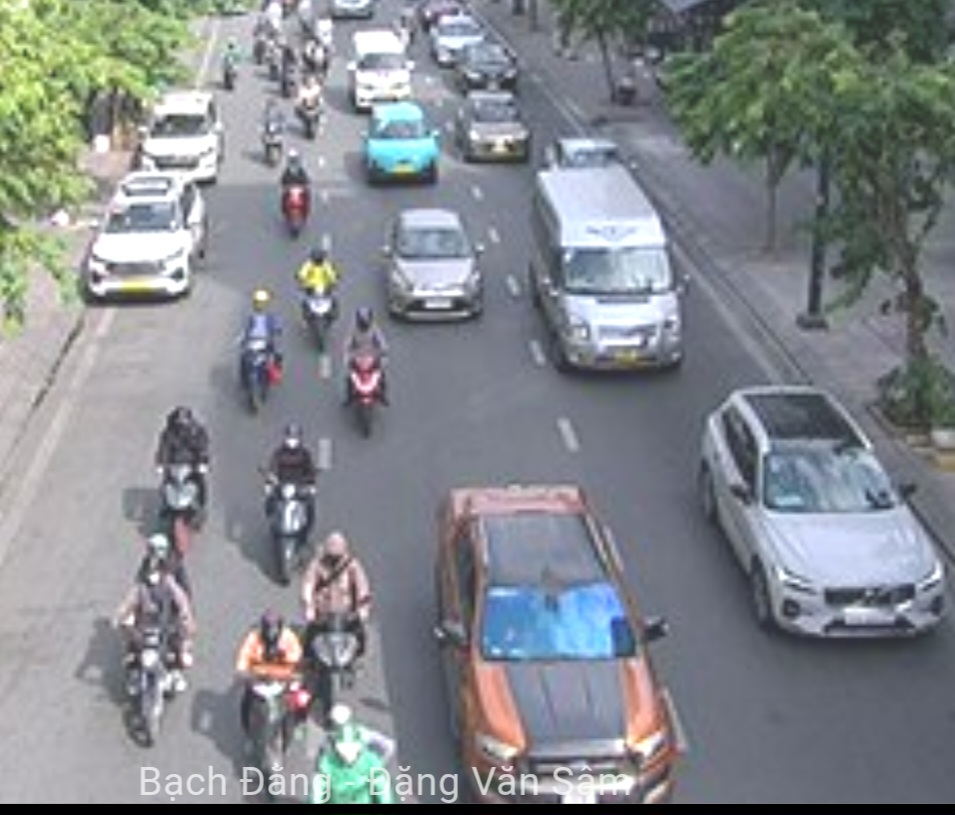car: (434, 485, 672, 810), (703, 382, 943, 639), (527, 170, 686, 376), (86, 174, 203, 304), (384, 212, 487, 322), (145, 91, 223, 181), (363, 108, 436, 190), (457, 92, 531, 163), (347, 30, 411, 105), (455, 42, 520, 90)
